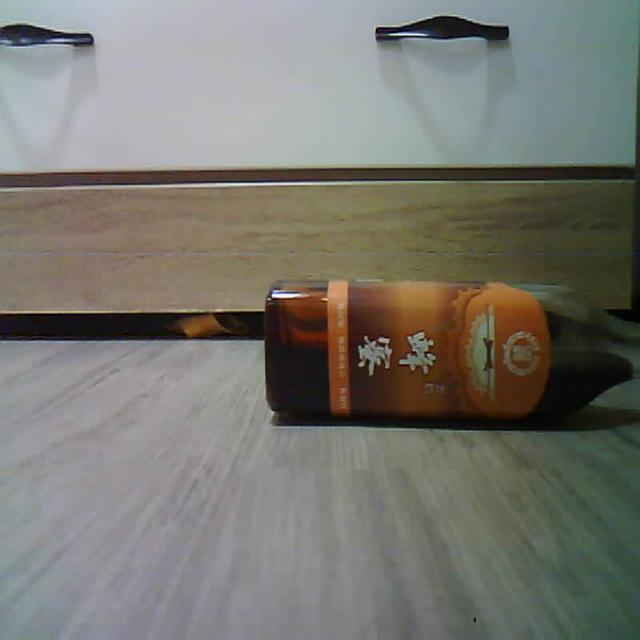bottle: (265, 281, 639, 420)
